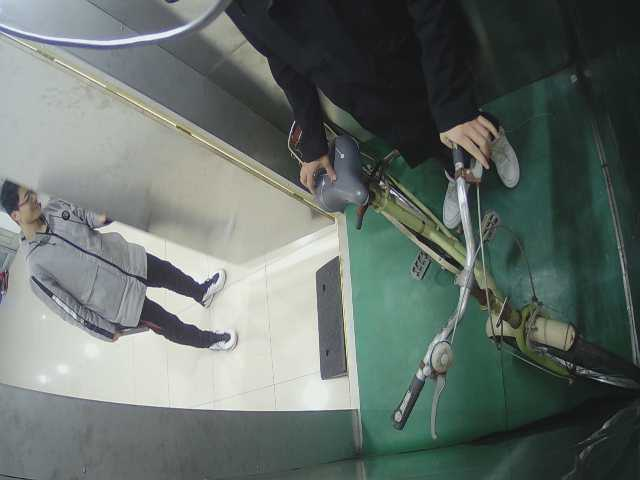bicycle: (287, 114, 640, 438)
person: (220, 1, 523, 234), (1, 180, 246, 357)
